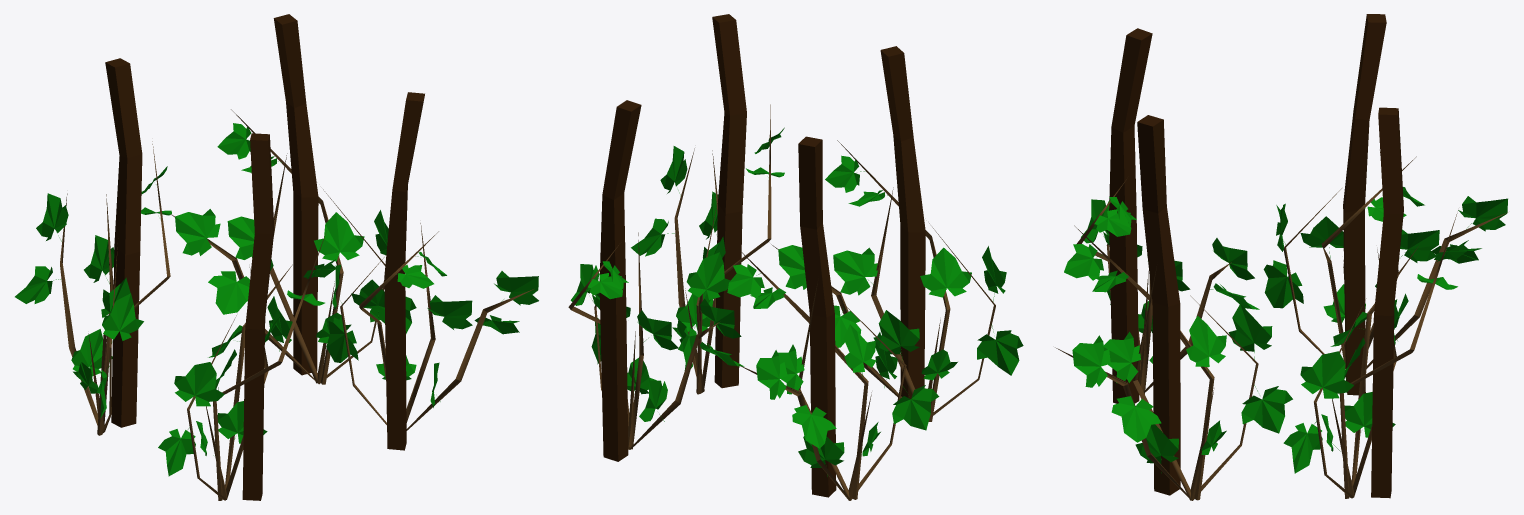
Rendered from grape_1.glb.
The picture shows the model from 3 angles, left to right: view 1: azimuth 30°, elevation 25°; view 2: azimuth 150°, elevation 25°; view 3: azimuth 270°, elevation 25°; orthographic projection. The views are drawn at different scales.
Parts seen in each view (by area): view 1: grape_1; view 2: grape_1; view 3: grape_1.
Boxes of the visible parts, box(x1,y1,x2,y2) form: grape_1: box(15, 14, 538, 500); grape_1: box(568, 14, 1023, 500); grape_1: box(1055, 14, 1507, 500).
Bounding box in the file's own units: 2.56 × 2.35 × 2.54.
